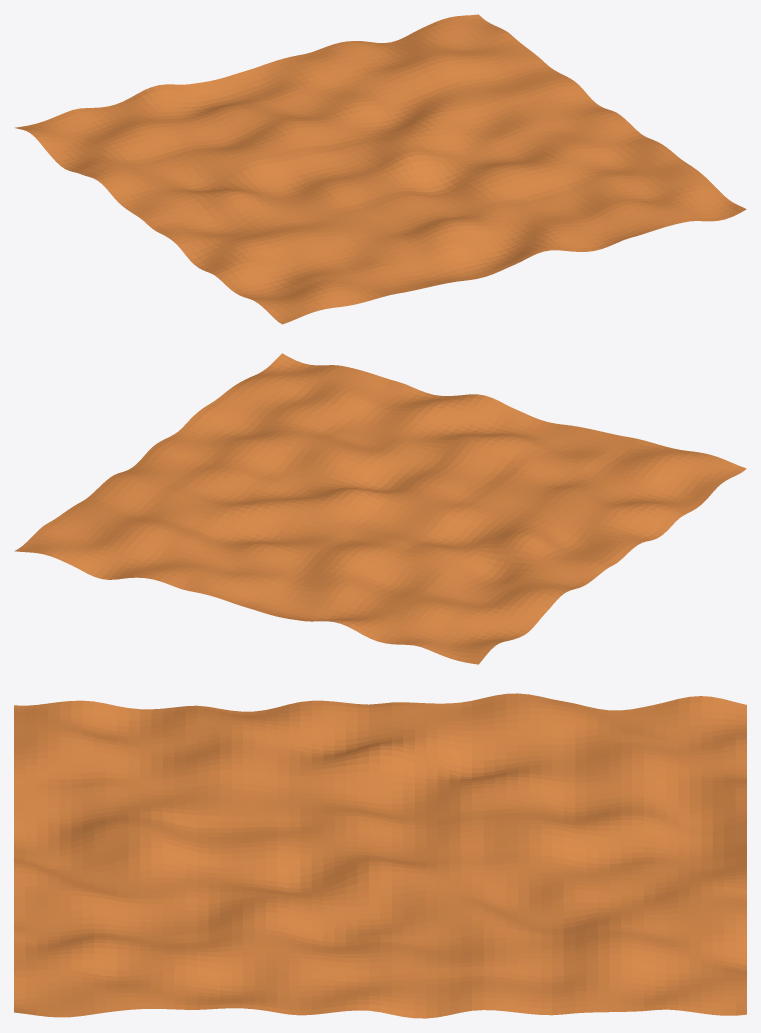
The model's file is desert_terrain.fbx.
The picture shows the model from 3 angles, top to bottom: view 1: azimuth 30°, elevation 25°; view 2: azimuth 150°, elevation 25°; view 3: azimuth 270°, elevation 25°; orthographic projection. The views are drawn at different scales.
Visible parts, largest first — view 1: Plane; view 2: Plane; view 3: Plane.
Part boxes in pixels (bbox=[...]): Plane: bbox=[14, 14, 746, 324]; Plane: bbox=[14, 353, 746, 664]; Plane: bbox=[14, 693, 746, 1018].
Size of the model in its own units: 53505 by 2084 by 53505.
